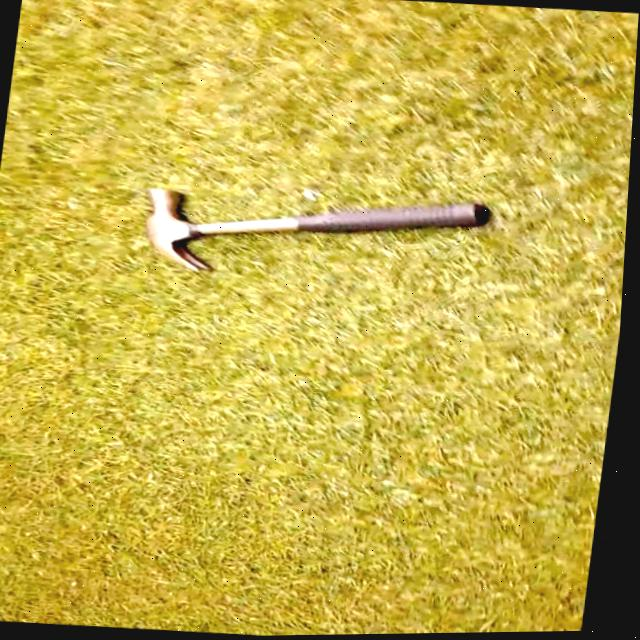hammer: (140, 175, 497, 298)
